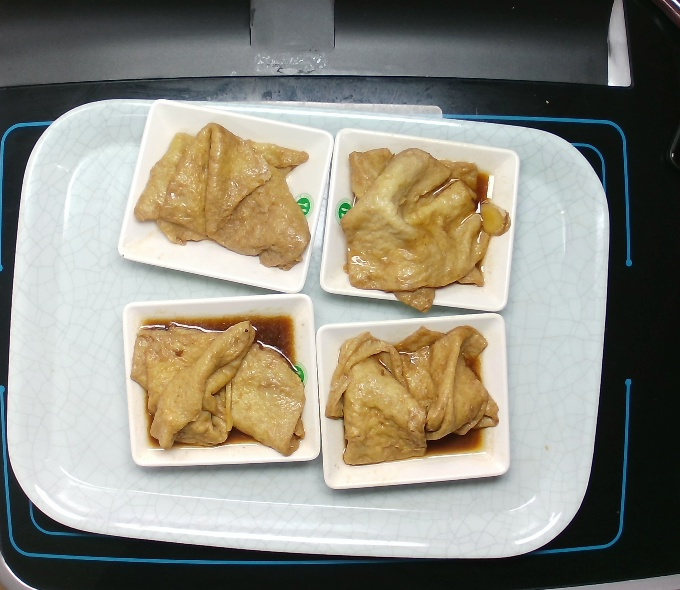wcq-YouDouFu: (333, 134, 519, 315), (124, 112, 316, 276), (130, 307, 313, 465), (323, 318, 507, 465)
